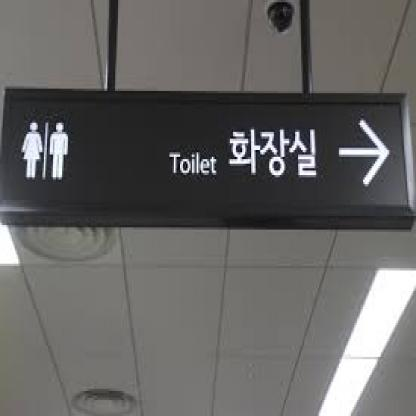toilet: (23, 117, 70, 184)
